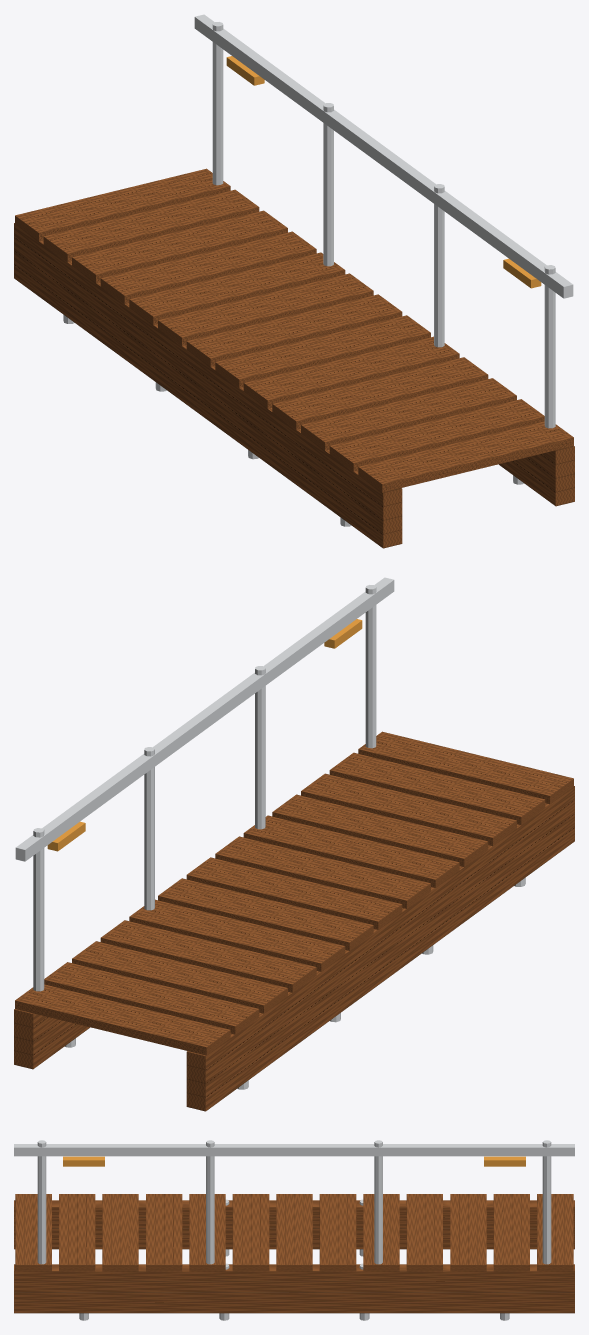
Rendered from volcano-and-lava-fields-volcano-and-lava-fields-walkwa-73c4caa9__37479.glb.
The picture shows the model from 3 angles, top to bottom: view 1: azimuth 30°, elevation 25°; view 2: azimuth 150°, elevation 25°; view 3: azimuth 270°, elevation 25°; orthographic projection. The views are drawn at different scales.
Visible parts, largest first — view 1: volcano-and-lava-fields-walkway-boardwalk-module; view 2: volcano-and-lava-fields-walkway-boardwalk-module; view 3: volcano-and-lava-fields-walkway-boardwalk-module.
Part boxes in pixels (x1,y1,x2,y2): volcano-and-lava-fields-walkway-boardwalk-module: (14,14,574,548); volcano-and-lava-fields-walkway-boardwalk-module: (14,577,574,1111); volcano-and-lava-fields-walkway-boardwalk-module: (14,1140,574,1320).
Size of the model in its own units: 1.2 by 1.4 by 4.
3 materials, 1 textured.
